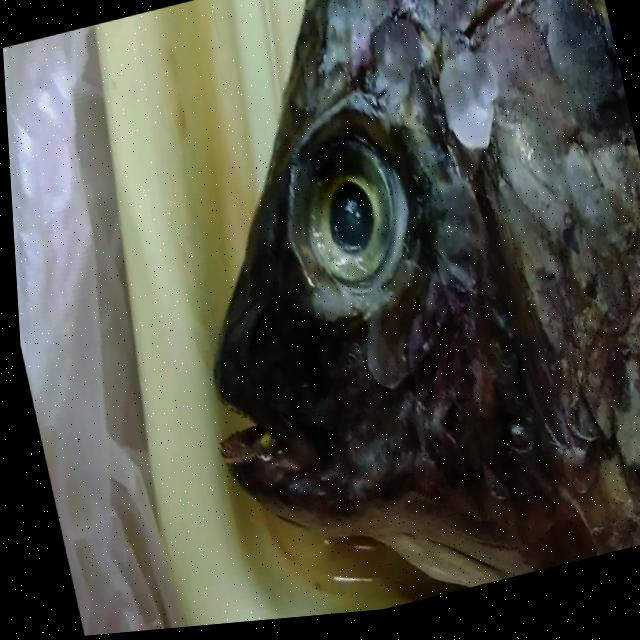Non-Fresh: (399, 0, 640, 588), (251, 88, 449, 342)
